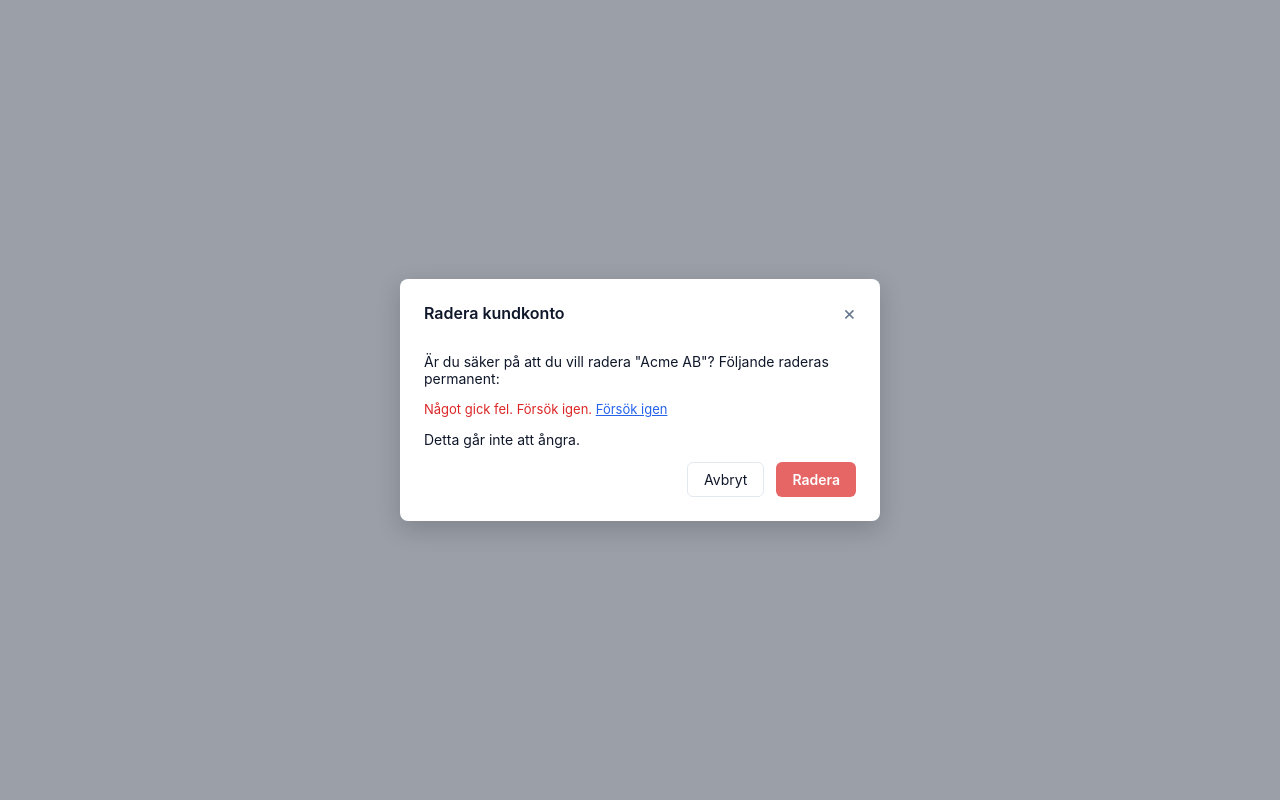
Scenario: DeleteAccountDialog › shows a retry option when the count lookup fails, and blocks deletion until it succeeds
expect the message "Något gick fel. Försök igen. Försök igen" is shown: met, box [424, 401, 667, 417]
expect the button "Radera" is disabled: met, box [776, 462, 856, 497]
Click the button "Försök igen".
click(632, 409)  # box [596, 401, 668, 417]
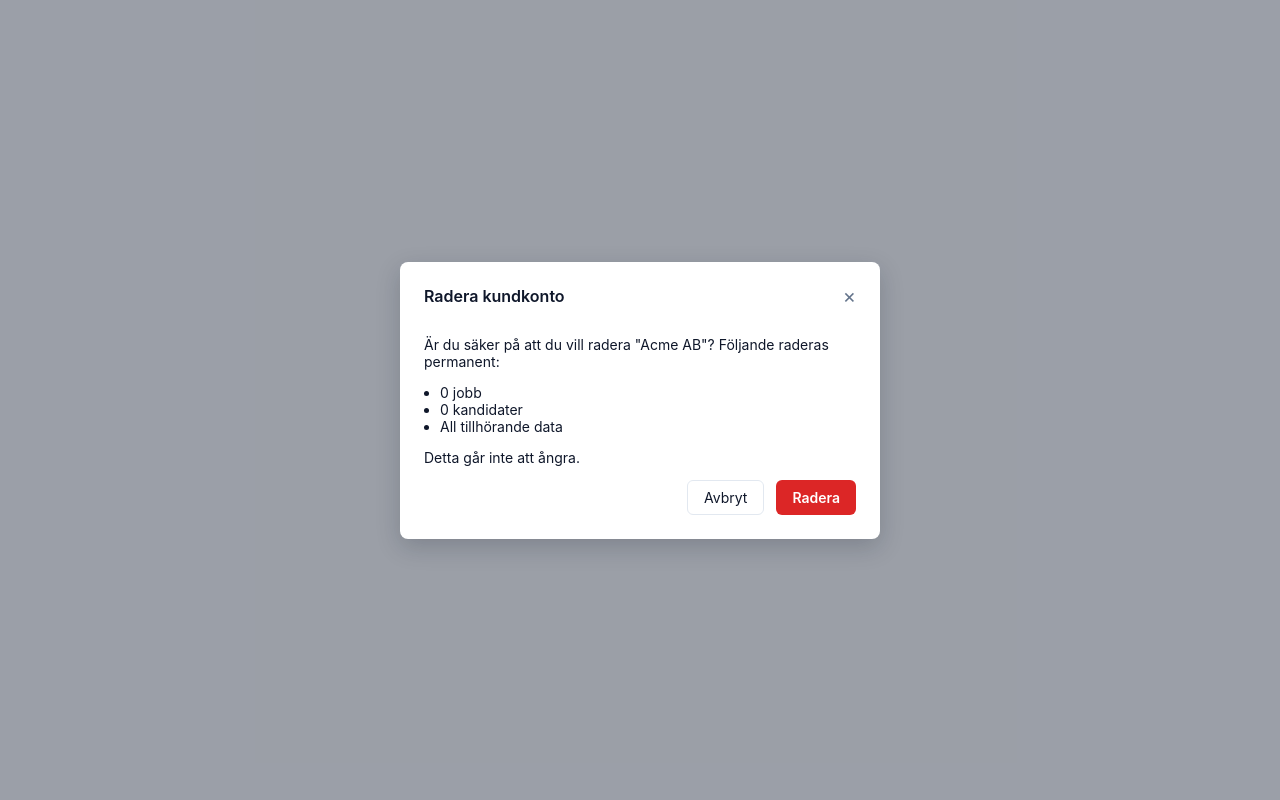
expect the list item "0 jobb" is shown: met, box [440, 384, 482, 400]
expect the button "Radera" is enabled: met, box [776, 480, 856, 514]
